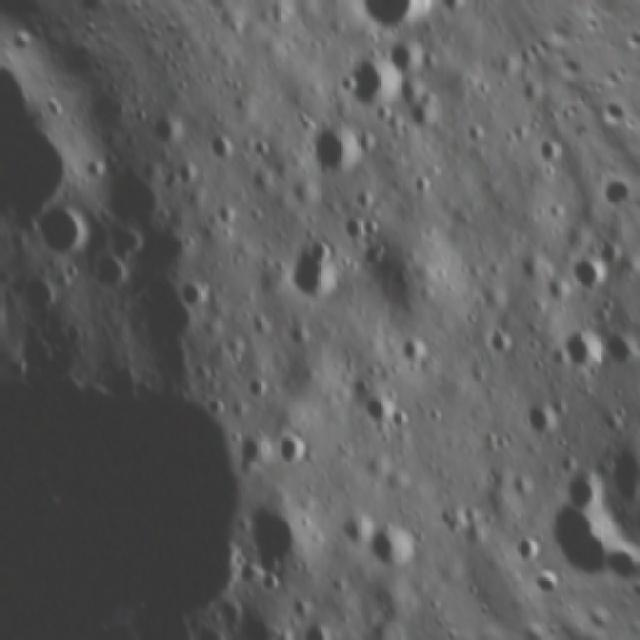crater: (222, 474, 335, 594), (0, 113, 88, 244), (261, 220, 364, 323), (323, 33, 415, 129), (526, 470, 626, 556), (286, 105, 376, 197), (10, 183, 101, 271), (321, 0, 456, 55), (353, 503, 432, 582), (542, 312, 616, 390), (320, 488, 386, 558), (542, 452, 609, 518), (260, 414, 326, 477), (74, 242, 138, 304), (372, 18, 434, 80), (350, 376, 410, 436), (555, 243, 613, 303), (166, 265, 222, 321), (219, 424, 275, 478), (192, 114, 246, 169), (387, 321, 438, 373), (347, 234, 396, 281), (233, 362, 281, 409), (474, 313, 520, 362), (290, 606, 348, 640), (192, 380, 235, 423), (527, 126, 568, 169), (504, 528, 545, 568), (508, 74, 546, 112), (627, 341, 640, 444), (350, 208, 385, 244), (457, 117, 492, 152), (406, 166, 440, 202), (427, 0, 479, 23), (345, 181, 377, 213)
